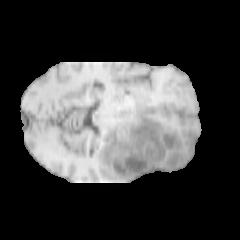glioma: (96, 112, 183, 176)
